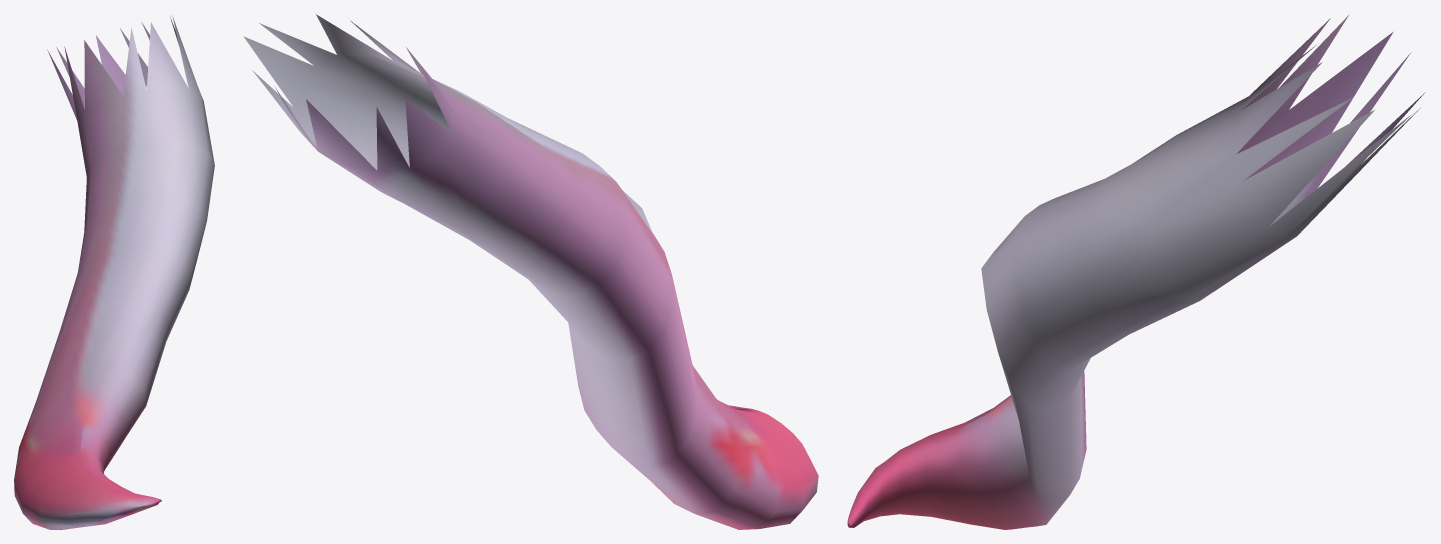
File: Punta6.obj
3 renders of one model, left to right at view 1: azimuth 30°, elevation 25°; view 2: azimuth 150°, elevation 25°; view 3: azimuth 270°, elevation 25°, orthographic. The views are drawn at different scales.
Visible parts, largest first — view 1: Punta6; view 2: Punta6; view 3: Punta6.
Part boxes in pixels (x1,y1,x2,y2): Punta6: (14, 15, 214, 529); Punta6: (243, 14, 818, 529); Punta6: (847, 15, 1425, 529).
Size of the model in its own units: 7.28 by 9.83 by 8.21.
